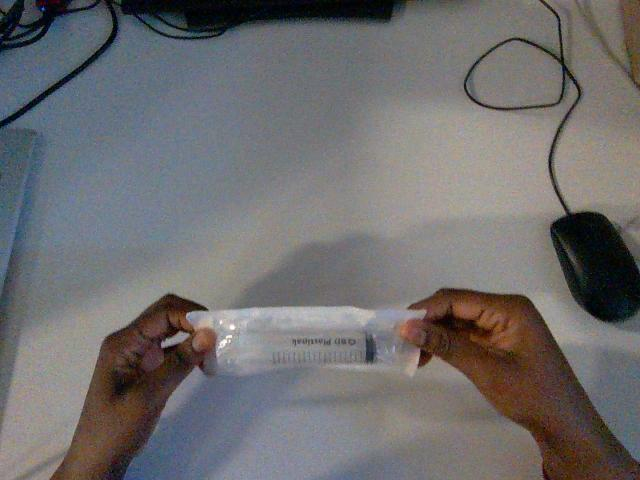syringe: (187, 307, 425, 374)
